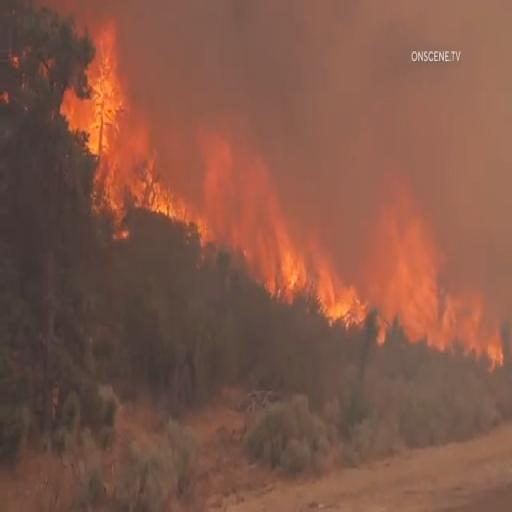fire: (247, 193, 367, 346), (373, 180, 449, 348), (72, 14, 150, 164), (131, 152, 190, 258)
